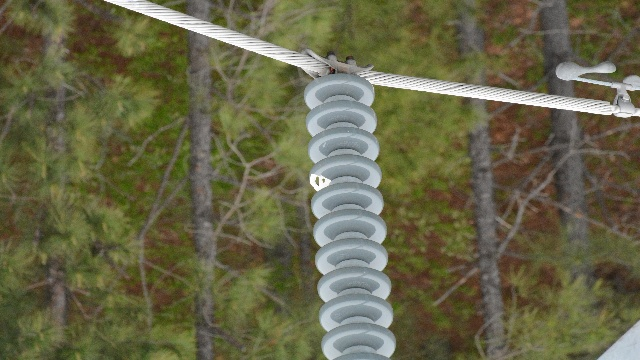broken_local: (309, 172, 335, 194)
insulator_unspecified: (304, 73, 395, 359)
